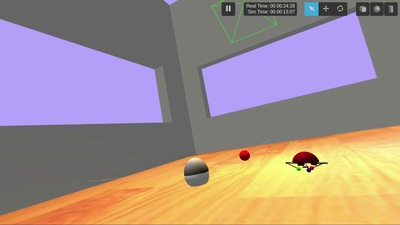mira_robot: (184, 158, 209, 187)
